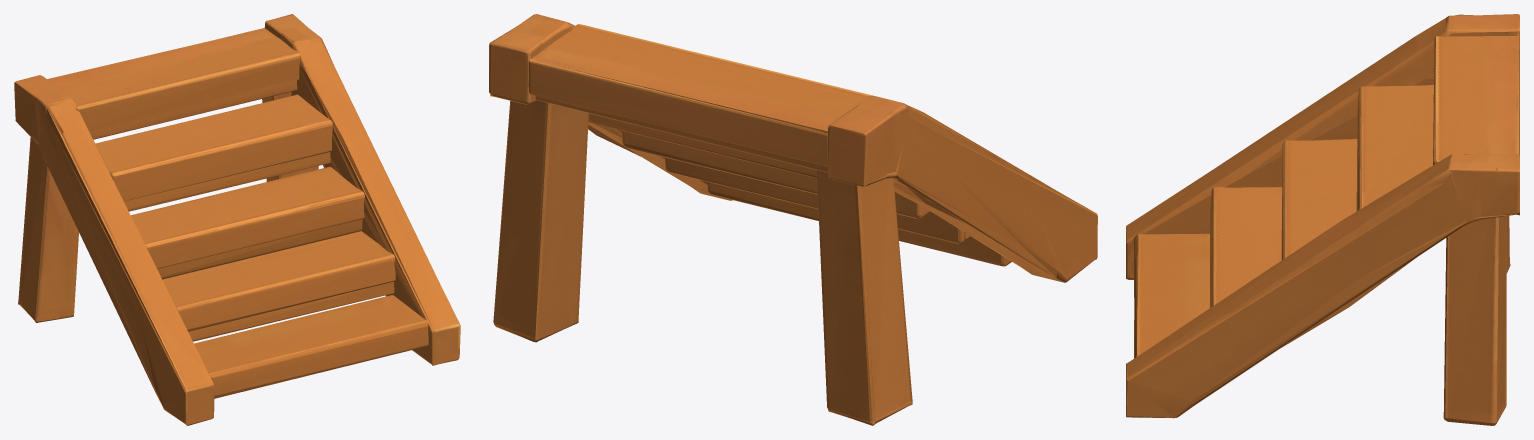
File: stairs.glb
3 renders of one model, left to right at view 1: azimuth 30°, elevation 25°; view 2: azimuth 150°, elevation 25°; view 3: azimuth 270°, elevation 25°, orthographic. The views are drawn at different scales.
Bounding box in the file's own units: 0.9883 × 0.7109 × 1.
Materials: 1 (1 with a texture image).
